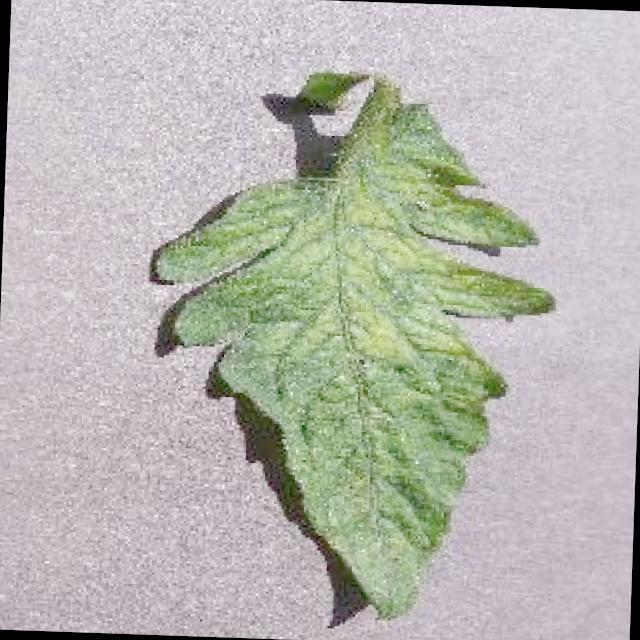Tomato mosaic virus leaf: (136, 90, 568, 632)
